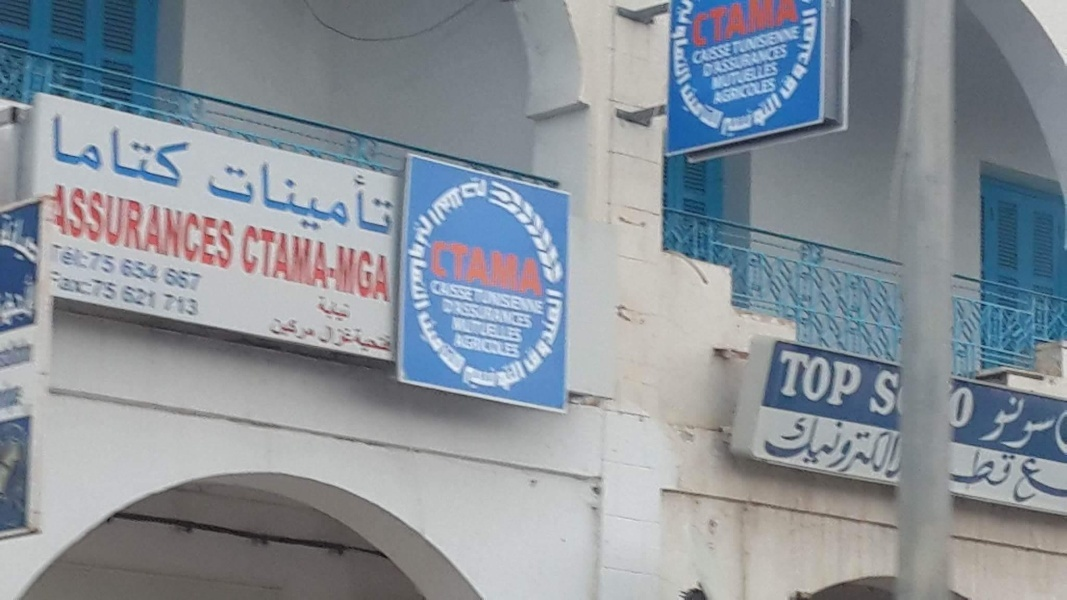text: (225, 143, 240, 251), (241, 143, 256, 251), (257, 143, 272, 251), (273, 143, 288, 251), (289, 143, 304, 251), (305, 143, 320, 251), (321, 143, 336, 251), (337, 143, 352, 251), (353, 143, 368, 251), (369, 143, 384, 251), (417, 205, 432, 313), (785, 3, 800, 110), (801, 3, 816, 110), (817, 3, 832, 110), (210, 143, 224, 251), (673, 1, 688, 92), (49, 182, 64, 272), (65, 182, 80, 272), (81, 182, 96, 272), (97, 182, 112, 272), (113, 182, 128, 272), (129, 182, 144, 272), (145, 182, 160, 272), (161, 182, 176, 272), (177, 182, 192, 272), (193, 182, 208, 272), (209, 182, 224, 272), (529, 290, 544, 380), (545, 290, 560, 380), (561, 290, 576, 380), (177, 114, 193, 192), (257, 225, 272, 306), (273, 225, 288, 306), (289, 225, 304, 306), (305, 225, 320, 306), (321, 225, 336, 306), (337, 225, 352, 306), (353, 225, 368, 306), (369, 225, 384, 306), (65, 114, 80, 192), (81, 114, 96, 192), (97, 114, 112, 192), (113, 114, 128, 192), (129, 114, 144, 192), (145, 114, 160, 192), (161, 114, 176, 192), (433, 307, 448, 383), (449, 307, 464, 383), (785, 407, 800, 483), (801, 407, 816, 483), (817, 407, 832, 483), (833, 407, 848, 483), (849, 407, 864, 483), (865, 407, 880, 483), (881, 407, 896, 483), (225, 182, 237, 272), (385, 143, 395, 251), (774, 3, 784, 110), (849, 348, 865, 412), (993, 390, 1008, 458), (1009, 390, 1024, 458), (1025, 390, 1040, 458), (1041, 390, 1056, 458), (771, 407, 784, 483), (785, 348, 800, 412), (801, 348, 816, 412), (817, 348, 832, 412), (833, 348, 848, 412), (705, 79, 720, 142), (433, 237, 448, 298), (449, 237, 464, 298), (465, 237, 480, 298), (481, 237, 496, 298), (497, 237, 512, 298), (513, 237, 528, 298), (529, 237, 544, 298), (17, 270, 32, 330), (245, 225, 256, 306), (17, 211, 32, 270), (433, 170, 448, 228), (449, 170, 464, 228), (465, 170, 480, 228), (408, 205, 416, 313), (53, 114, 64, 192), (737, 91, 752, 147), (753, 91, 768, 147), (769, 91, 784, 147), (2, 270, 16, 330), (2, 211, 16, 270), (33, 211, 47, 270), (385, 225, 395, 306), (519, 290, 528, 380), (881, 368, 896, 420), (1025, 456, 1040, 508), (692, 79, 704, 142), (419, 170, 432, 228), (705, 1, 720, 48), (721, 1, 736, 48), (737, 1, 752, 48), (753, 1, 768, 48), (769, 1, 784, 48), (785, 1, 800, 48), (961, 444, 976, 490), (977, 444, 992, 490), (993, 444, 1008, 490), (961, 386, 976, 431), (725, 91, 736, 147), (691, 1, 704, 48), (705, 42, 720, 80), (721, 42, 736, 80), (737, 42, 752, 80), (753, 42, 768, 80), (769, 42, 784, 80), (689, 1, 695, 92), (481, 360, 496, 394), (497, 360, 512, 394), (513, 360, 528, 394), (737, 24, 752, 57), (753, 24, 768, 57), (769, 24, 784, 57), (785, 24, 800, 57), (321, 293, 336, 325), (337, 293, 352, 325), (449, 298, 464, 330), (465, 298, 480, 330), (481, 298, 496, 330), (497, 298, 512, 330), (513, 298, 528, 330), (721, 61, 736, 93), (737, 61, 752, 93), (753, 61, 768, 93), (529, 287, 545, 316), (481, 170, 489, 228), (897, 407, 903, 483), (65, 268, 80, 298), (721, 77, 736, 107), (737, 77, 752, 107), (753, 77, 768, 107), (337, 323, 353, 351), (467, 360, 480, 394), (465, 316, 480, 345), (481, 316, 496, 345), (497, 316, 512, 345), (65, 242, 80, 271), (353, 328, 368, 357), (369, 328, 384, 357), (481, 287, 496, 316), (497, 287, 512, 316), (513, 287, 528, 316), (465, 332, 480, 360), (481, 332, 496, 360), (497, 332, 512, 360), (321, 323, 336, 351), (1009, 444, 1018, 490), (273, 315, 288, 342), (289, 315, 304, 342), (51, 268, 64, 298), (129, 258, 144, 284), (129, 284, 144, 310), (705, 42, 720, 68), (177, 267, 192, 292), (177, 293, 192, 318), (145, 258, 159, 284), (81, 268, 93, 298), (97, 250, 112, 274), (97, 278, 112, 302), (952, 386, 960, 431), (769, 61, 780, 93), (513, 316, 525, 345), (433, 279, 448, 302), (449, 279, 464, 302), (145, 284, 158, 310), (785, 91, 791, 147), (433, 205, 436, 313), (453, 316, 464, 345), (53, 242, 64, 271), (721, 79, 726, 142), (692, 42, 704, 68), (164, 293, 176, 318), (721, 42, 732, 68), (954, 444, 960, 490), (529, 360, 537, 394), (769, 77, 778, 107), (875, 368, 880, 420), (897, 368, 902, 420), (1041, 456, 1046, 508), (712, 61, 720, 93), (455, 332, 464, 360), (193, 293, 203, 318), (305, 315, 314, 342), (33, 270, 37, 330), (81, 242, 89, 271), (385, 328, 393, 357), (429, 307, 432, 383), (465, 307, 468, 383), (167, 267, 176, 292), (193, 267, 202, 292), (465, 279, 474, 302), (473, 287, 480, 316), (513, 332, 520, 360), (442, 298, 448, 330), (781, 348, 784, 412), (577, 290, 579, 380), (714, 77, 720, 107), (89, 250, 96, 274), (731, 24, 736, 57), (122, 258, 128, 284), (1021, 456, 1024, 508), (785, 42, 789, 80), (990, 390, 992, 458), (1057, 390, 1059, 458), (123, 284, 128, 310), (529, 298, 533, 330), (113, 278, 118, 302), (702, 42, 704, 80), (113, 250, 116, 274), (93, 278, 96, 302), (353, 293, 355, 325), (318, 323, 320, 351), (977, 386, 978, 431), (801, 24, 802, 57), (271, 315, 272, 342), (431, 279, 432, 302)
